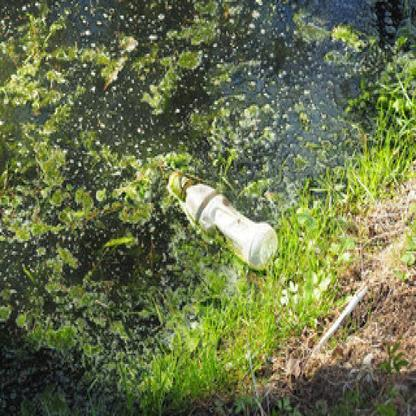plastic bottle: (170, 172, 276, 268)
